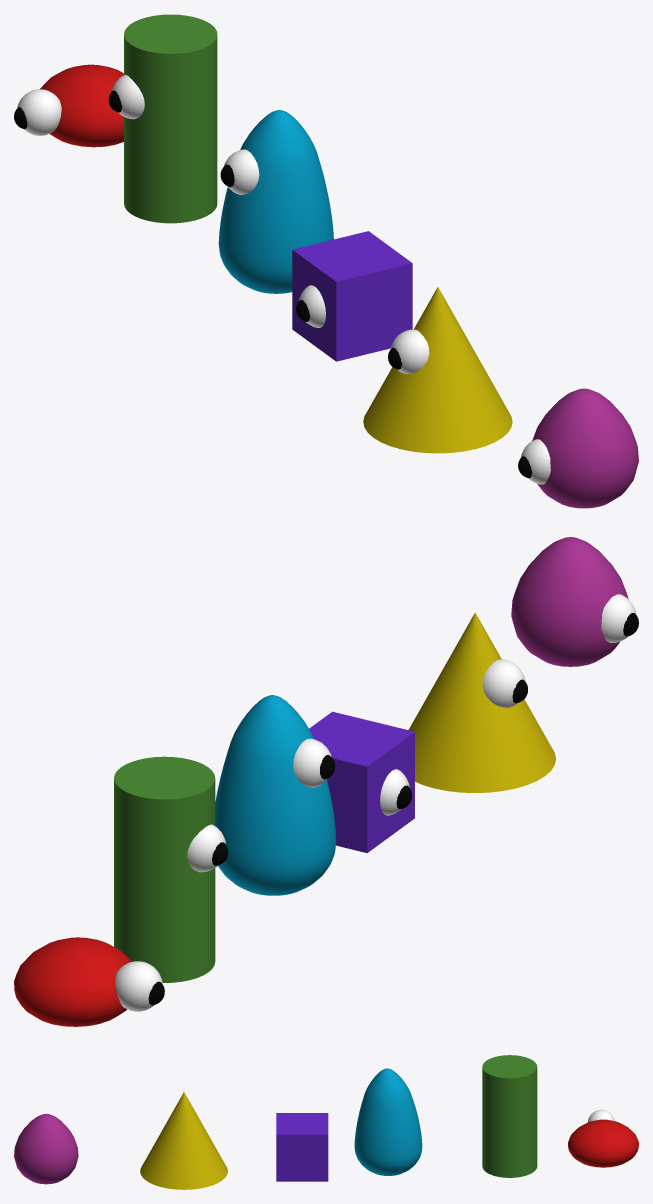
Rendered from ViveLudum.fbx.
3 renders of one model, top to bottom at view 1: azimuth 30°, elevation 25°; view 2: azimuth 150°, elevation 25°; view 3: azimuth 270°, elevation 25°, orthographic. The views are drawn at different scales.
Visible parts, largest first — view 1: Cylindre, Capsule, Cône, Cube, Sphère, Sphère_1, Sphère_8, Sphère_10, Sphère_4, Sphère_2, Sphère_12, Sphère_6; view 2: Cylindre, Capsule, Cône, Sphère, Cube, Sphère_1, Sphère_8, Sphère_10, Sphère_4, Sphère_2, Sphère_12, Sphère_6; view 3: Cylindre, Capsule, Cône, Cube, Sphère, Sphère_1, Sphère_8.
Part boxes in pixels (x1,y1,x2,y2): Cylindre: (124, 14, 217, 223); Capsule: (218, 110, 333, 293); Cône: (363, 287, 512, 453); Cube: (292, 231, 412, 361); Sphère: (532, 388, 638, 508); Sphère_1: (40, 64, 123, 147); Sphère_8: (17, 89, 61, 135); Sphère_10: (391, 329, 429, 374); Sphère_4: (224, 149, 259, 194); Sphère_2: (112, 74, 144, 119); Sphère_12: (521, 439, 550, 484); Sphère_6: (299, 285, 325, 327); Cylindre: (114, 756, 215, 982); Capsule: (215, 695, 336, 895); Cône: (408, 612, 555, 792); Sphère: (511, 537, 628, 666); Cube: (309, 711, 414, 852); Sphère_1: (14, 937, 131, 1026); Sphère_8: (115, 961, 162, 1011); Sphère_10: (482, 659, 525, 707); Sphère_4: (293, 738, 331, 787); Sphère_2: (187, 824, 225, 872); Sphère_12: (601, 594, 636, 642); Sphère_6: (380, 769, 409, 815); Cylindre: (482, 1055, 537, 1177); Capsule: (354, 1068, 422, 1175); Cône: (140, 1092, 227, 1189); Cube: (276, 1113, 328, 1181); Sphère: (14, 1113, 78, 1184); Sphère_1: (568, 1119, 638, 1167); Sphère_8: (587, 1109, 614, 1122).
Size of the model in its own units: 377 by 464 by 2412.
